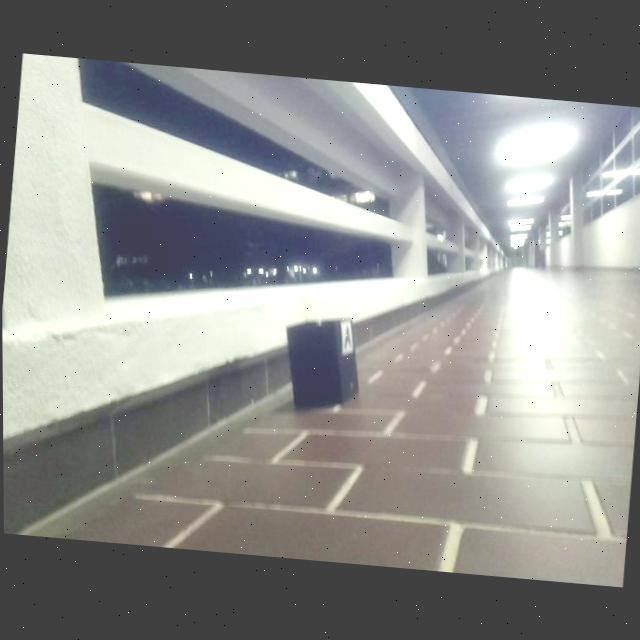A: (342, 325, 353, 353), (342, 322, 352, 350), (342, 321, 351, 350)
